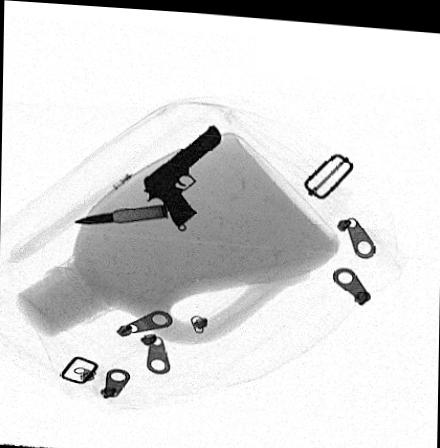Bullet: (74, 201, 167, 223)
Gun: (141, 120, 222, 226)
